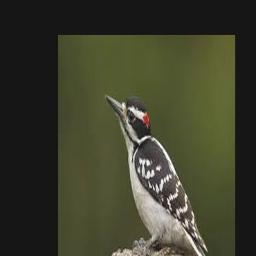Woodpecker: (105, 93, 210, 256)
